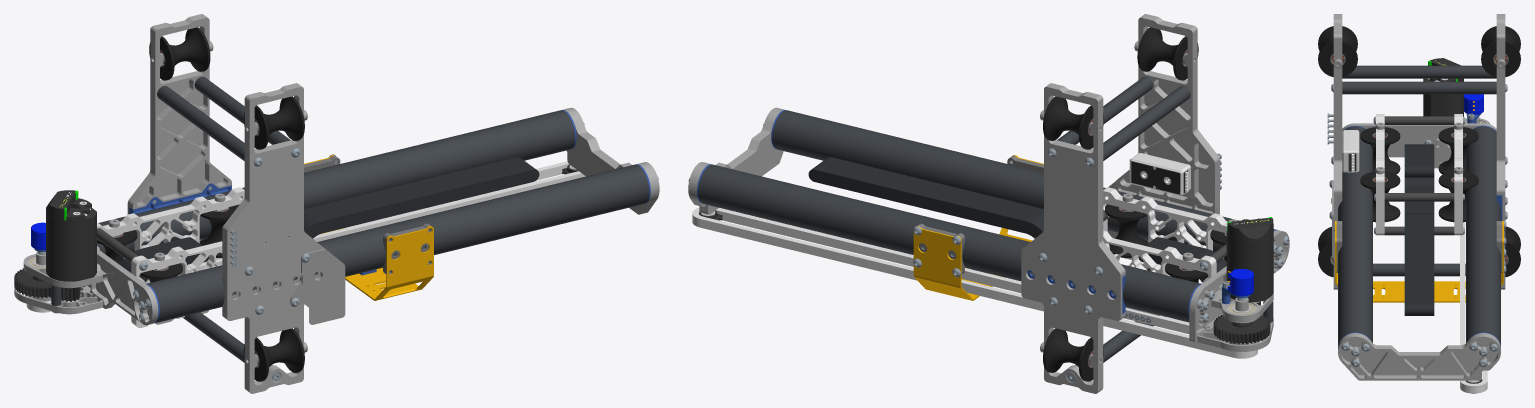
File: Elevator Linear Carrage.glb
3 renders of one model, left to right at view 1: azimuth 30°, elevation 25°; view 2: azimuth 150°, elevation 25°; view 3: azimuth 270°, elevation 25°, orthographic. The views are drawn at different scales.
Visible parts, largest first — view 1: Linear Tube (×2), Carrige Plate R, Carrige Plate, IGUS - 045.10.018.0 (Horizontal), Yoyo Roller Carrige (×4), Kraken X44 Brushless Motor, Carrige Spacer (×3), Cable Chain Support, Part 40, Chain Shuttle Plate, Chain - 194 Links, Rear Tie (+6 smaller); view 2: Linear Tube (×2), Carrige Plate, Chain - 194 Links, IGUS - 045.10.018.0 (Horizontal), Carrige Plate R, Yoyo Roller Carrige (×4), Carrige Spacer (×3), Kraken X44 Brushless Motor, Cable Chain Support, ShuttlePlate, Front tie, id6 (+7 smaller); view 3: Linear Tube (×2), Yoyo Roller Carrige (×8), Front tie, IGUS - 045.10.018.0 (Horizontal), Carrige Spacer (×3), Carrige Plate R, Carrige Plate, Shuttle Standoff (×3), Rear Tie, Cable Chain Support, Kraken X44 Brushless Motor, Chain - 194 Links (+5 smaller).
Boxes of the visible parts, bbox=[...] form: Linear Tube (×2): bbox=[97, 110, 649, 322]; Carrige Plate R: bbox=[222, 83, 324, 393]; Carrige Plate: bbox=[127, 14, 231, 324]; IGUS - 045.10.018.0 (Horizontal): bbox=[119, 157, 539, 282]; Yoyo Roller Carrige (×4): bbox=[149, 27, 304, 381]; Kraken X44 Brushless Motor: bbox=[46, 190, 96, 281]; Carrige Spacer (×3): bbox=[157, 76, 290, 365]; Cable Chain Support: bbox=[304, 155, 433, 300]; Part 40: bbox=[290, 249, 345, 324]; Chain Shuttle Plate: bbox=[97, 187, 244, 283]; Chain - 194 Links: bbox=[26, 161, 585, 312]; Rear Tie: bbox=[84, 248, 158, 325]; Linear Tube (×2): bbox=[698, 110, 1275, 322]; Carrige Plate: bbox=[1021, 83, 1125, 393]; Chain - 194 Links: bbox=[692, 207, 1257, 358]; IGUS - 045.10.018.0 (Horizontal): bbox=[808, 157, 1226, 282]; Carrige Plate R: bbox=[1116, 14, 1219, 321]; Yoyo Roller Carrige (×4): bbox=[1043, 27, 1198, 381]; Carrige Spacer (×3): bbox=[1057, 76, 1190, 365]; Kraken X44 Brushless Motor: bbox=[1226, 217, 1273, 302]; Cable Chain Support: bbox=[913, 155, 1043, 300]; ShuttlePlate: bbox=[1103, 187, 1227, 268]; Front tie: bbox=[688, 107, 784, 214]; id6: bbox=[1129, 153, 1190, 195]; Linear Tube (×2): bbox=[1338, 126, 1500, 345]; Yoyo Roller Carrige (×8): bbox=[1318, 26, 1520, 277]; Front tie: bbox=[1338, 333, 1500, 380]; IGUS - 045.10.018.0 (Horizontal): bbox=[1404, 144, 1434, 315]; Carrige Spacer (×3): bbox=[1342, 65, 1496, 276]; Carrige Plate R: bbox=[1333, 14, 1342, 289]; Carrige Plate: bbox=[1496, 14, 1505, 289]; Shuttle Standoff (×3): bbox=[1384, 116, 1454, 235]; Rear Tie: bbox=[1342, 123, 1496, 162]; Cable Chain Support: bbox=[1335, 221, 1503, 302]; Kraken X44 Brushless Motor: bbox=[1423, 58, 1463, 116]; Chain - 194 Links: bbox=[1460, 222, 1487, 393].
Bounding box in the file's own units: 0.6196 × 0.3055 × 0.2205.
